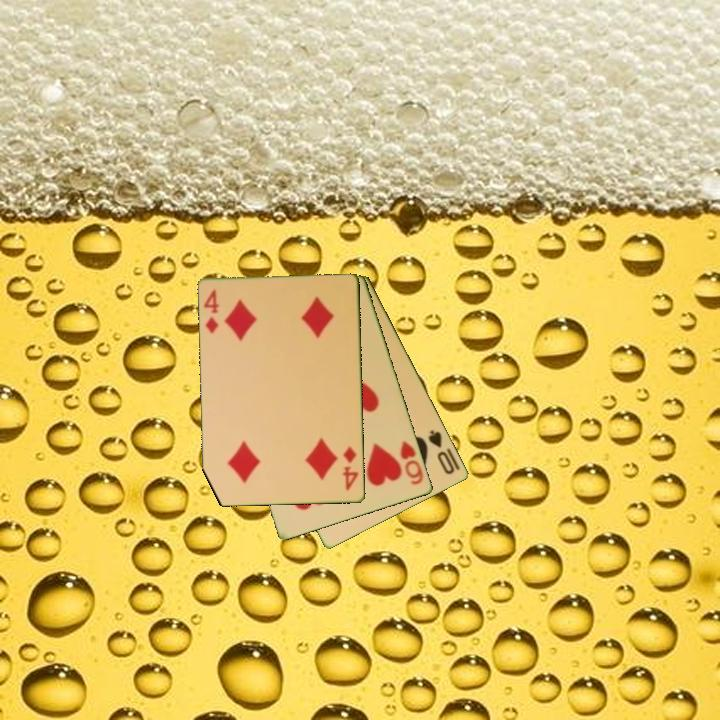10s: (425, 426, 458, 478)
4d: (339, 443, 362, 494), (200, 286, 222, 337)
6h: (397, 437, 427, 488)
